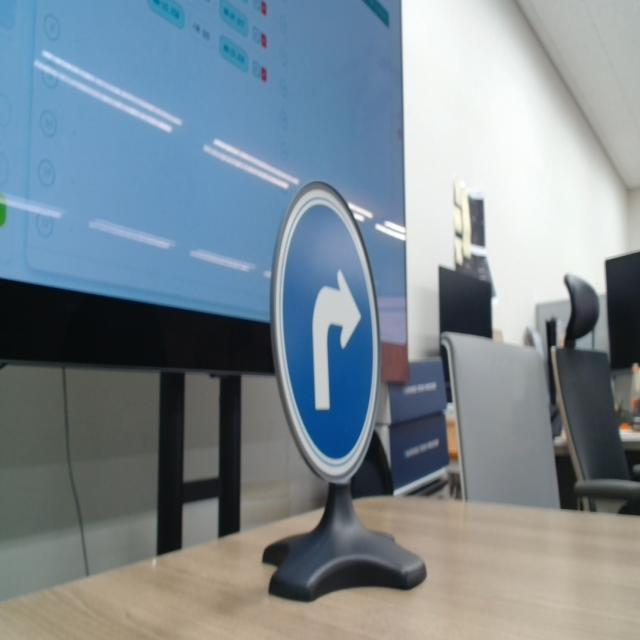right_dierection: (257, 176, 388, 484)
